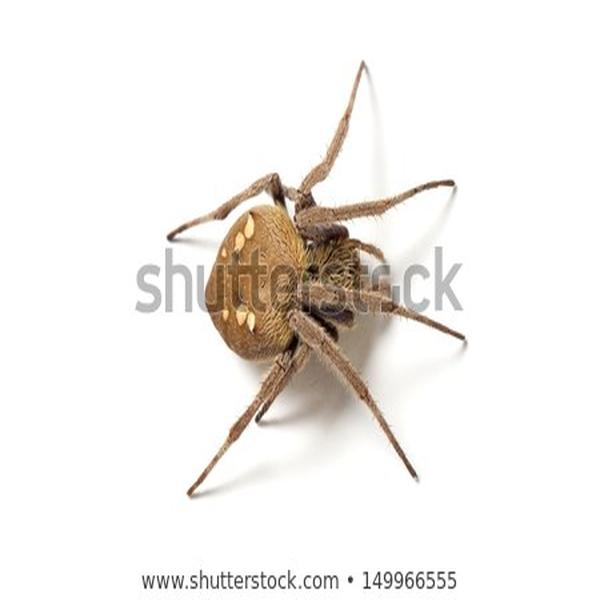Garden_Orb_Weaver_Spider: (168, 60, 468, 495)
